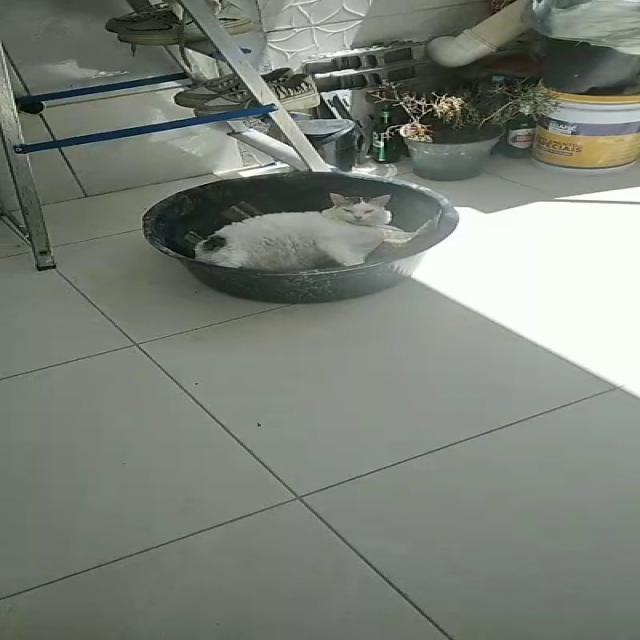Simba: (206, 183, 411, 272)
